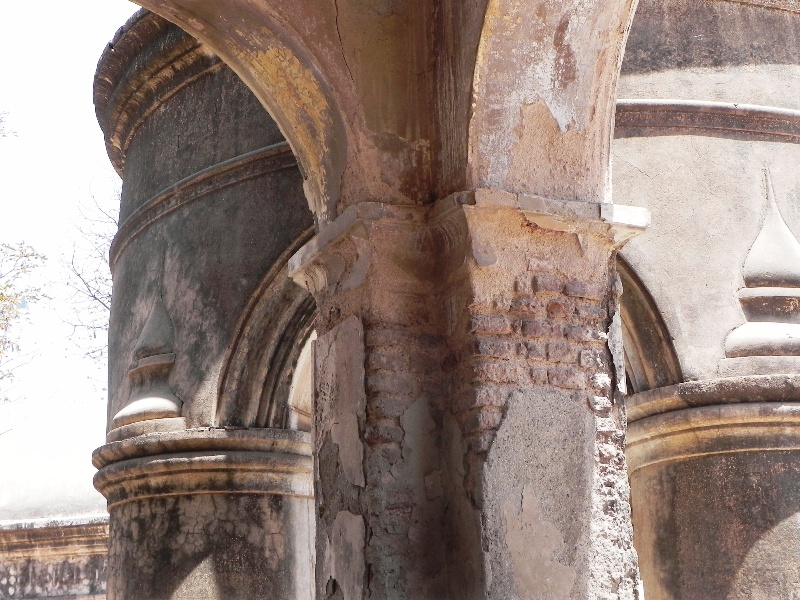Exposed Bricks: (360, 282, 615, 458)
